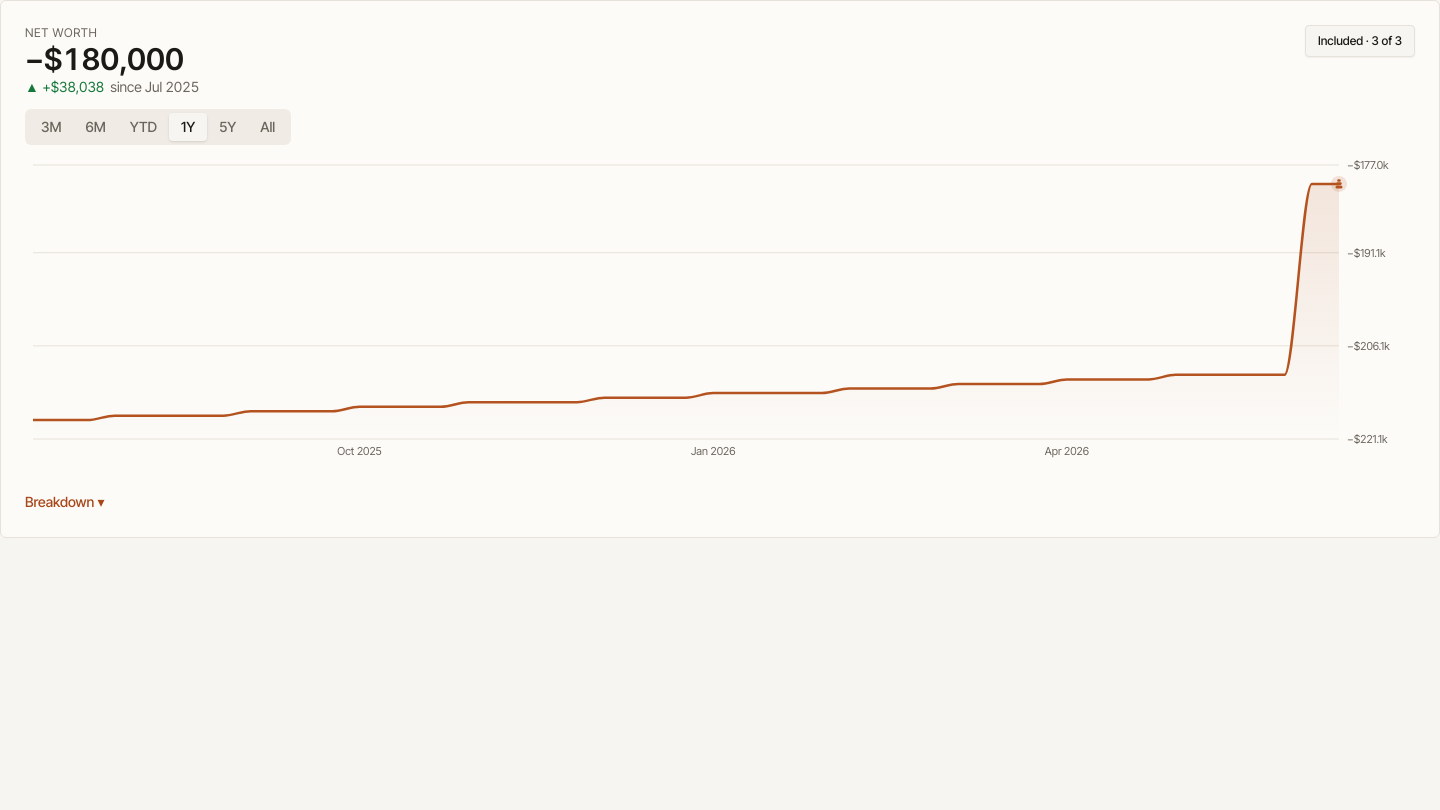
Test: breakdown panel (netWorth surface) › is collapsed by default, expands with full rows + footer tie
This screenshot has width=1440, height=810.
Click the button "Breakdown ▾". click: (65, 502)
box: left=25, top=492, right=104, bottom=512
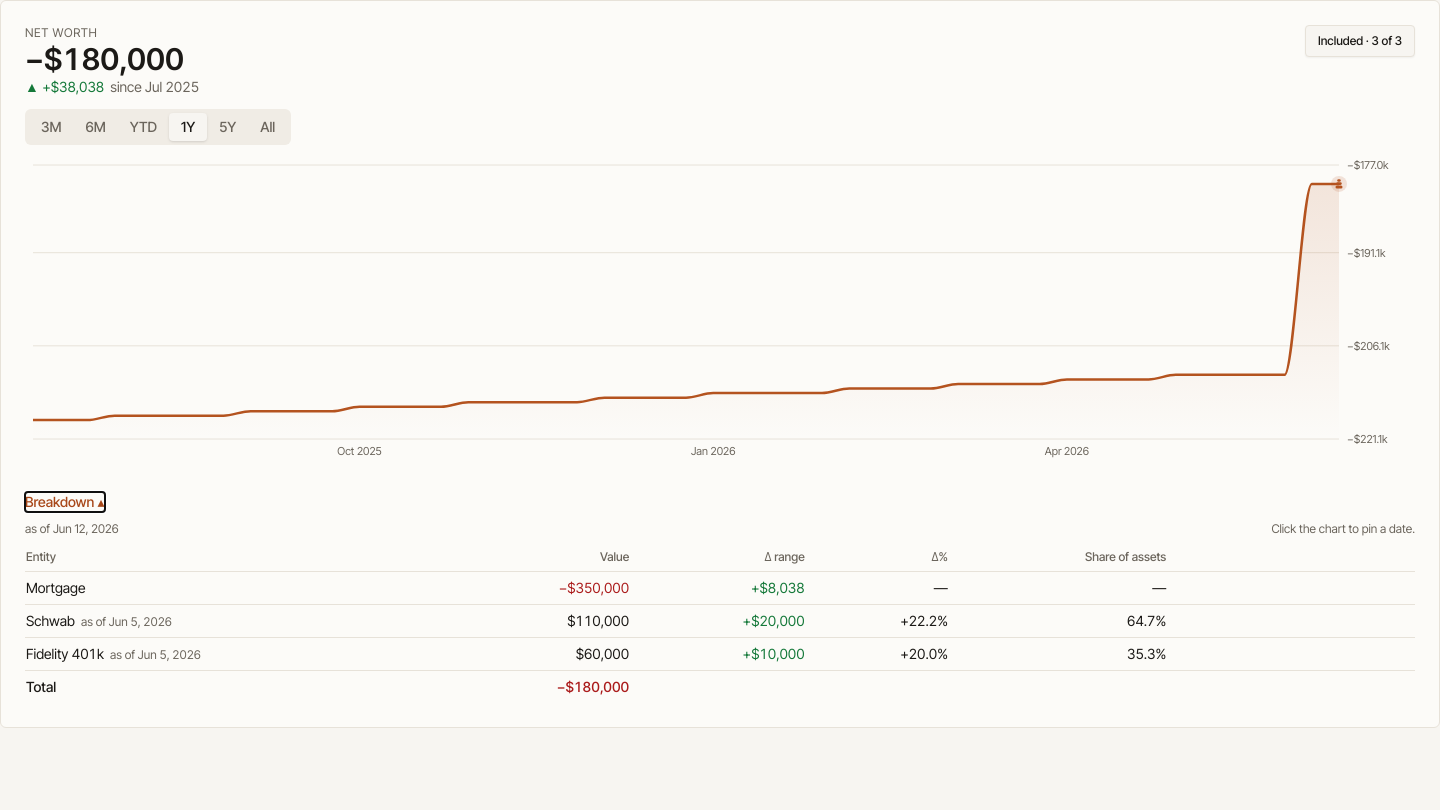
Result: the number of rows is 5 at left=25, top=543, right=1415, bottom=572; left=25, top=572, right=1415, bottom=604; left=25, top=604, right=1415, bottom=638; left=25, top=638, right=1415, bottom=670; left=25, top=670, right=1415, bottom=703
Result: the text "Mortgage" is shown at left=25, top=572, right=439, bottom=604
Result: the text "Total" is shown at left=25, top=670, right=439, bottom=703
